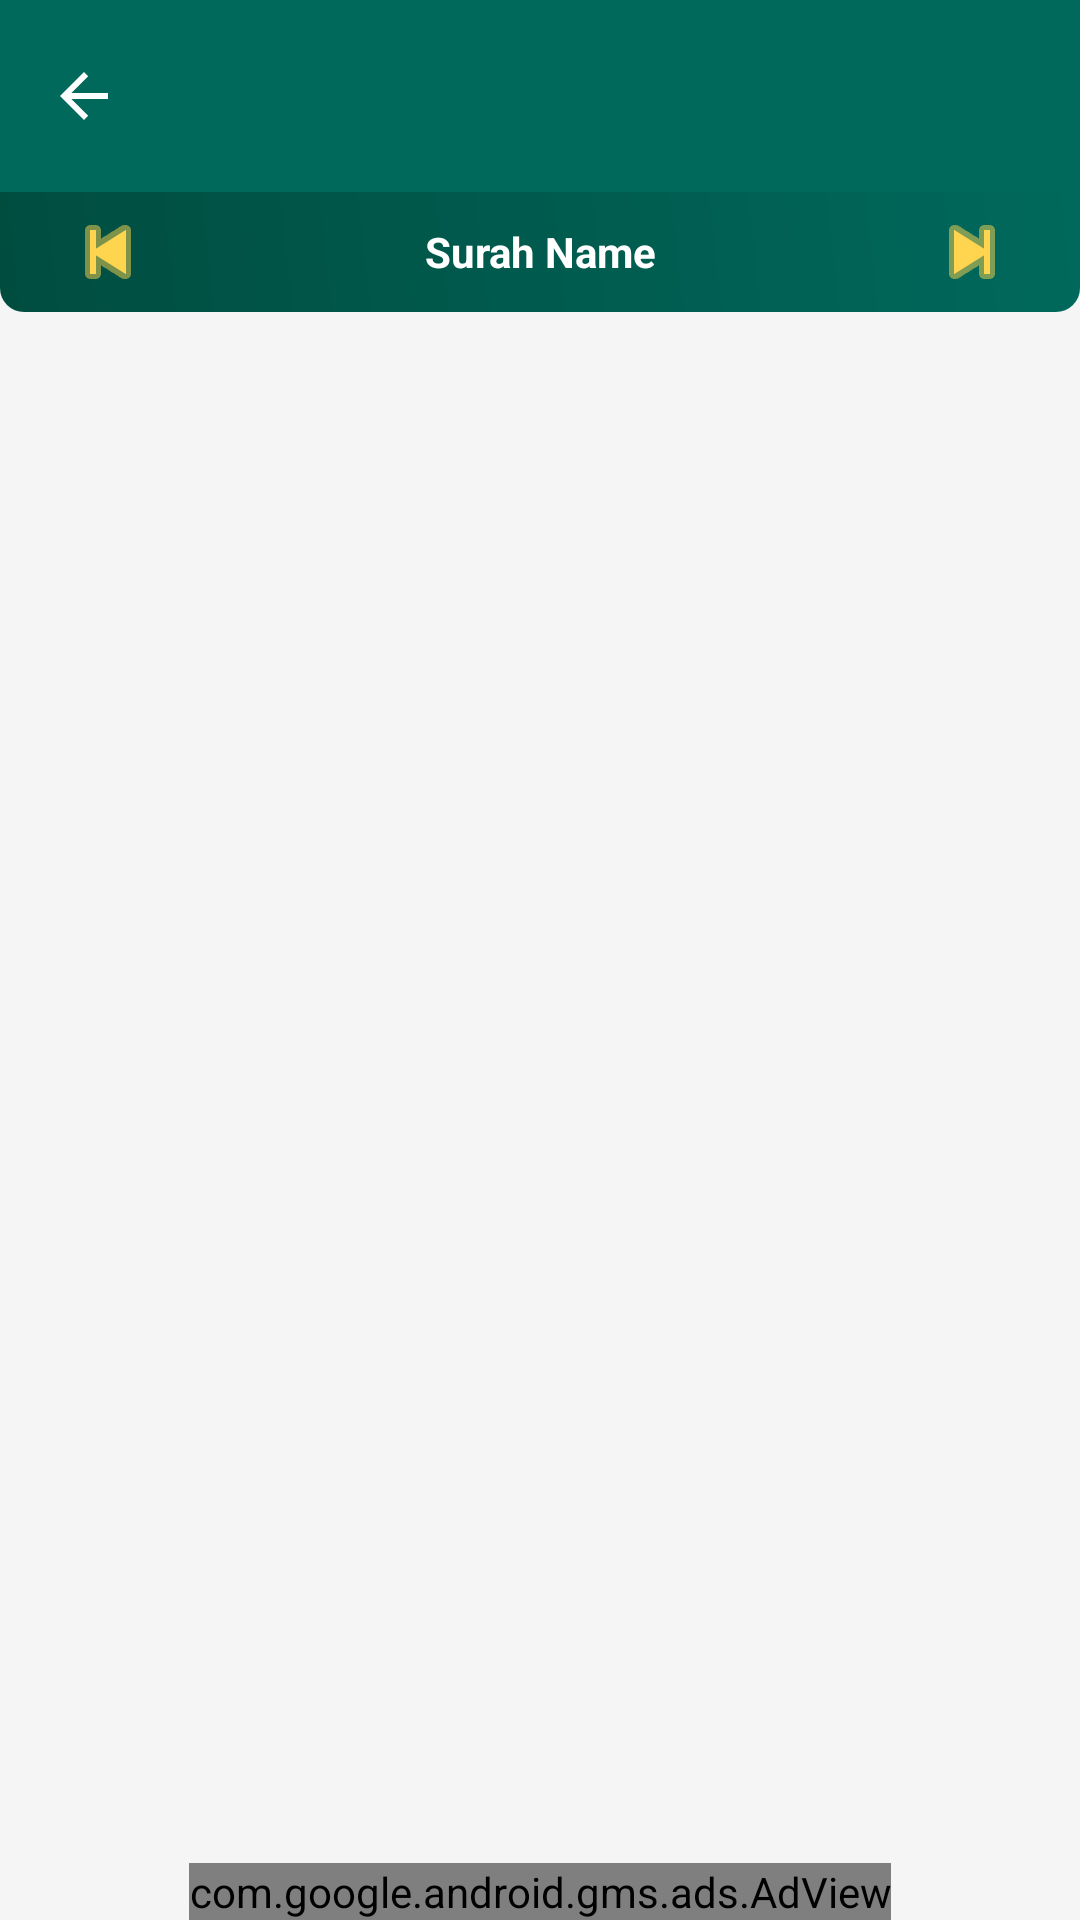

Point at icon controls on the screen. Image size 1080w x 1920h, points as (x=x, y=y).
Next Surah: (x=972, y=252)
Previous Surah: (x=108, y=252)
